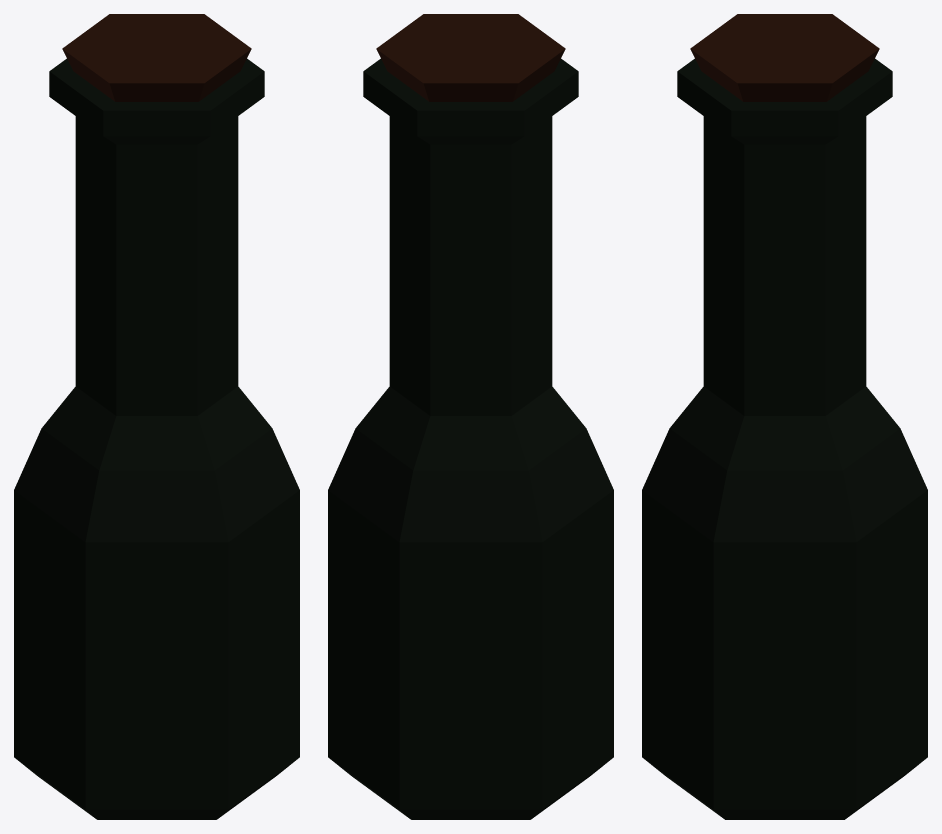
The model's file is Bottle.obj.
3 renders of one model, left to right at view 1: azimuth 30°, elevation 25°; view 2: azimuth 150°, elevation 25°; view 3: azimuth 270°, elevation 25°, orthographic.
Visible parts, largest first — view 1: Bottle_Circle; view 2: Bottle_Circle; view 3: Bottle_Circle.
Boxes of the visible parts, box(x1,y1,x2,y2) form: Bottle_Circle: box(14, 14, 299, 819); Bottle_Circle: box(328, 14, 613, 819); Bottle_Circle: box(642, 14, 927, 819).
Bounding box in the file's own units: 0.1039 × 0.3367 × 0.1199.
